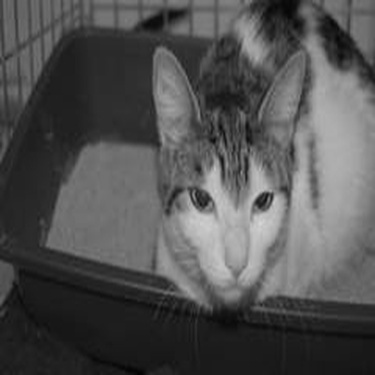cat: (147, 5, 368, 315)
